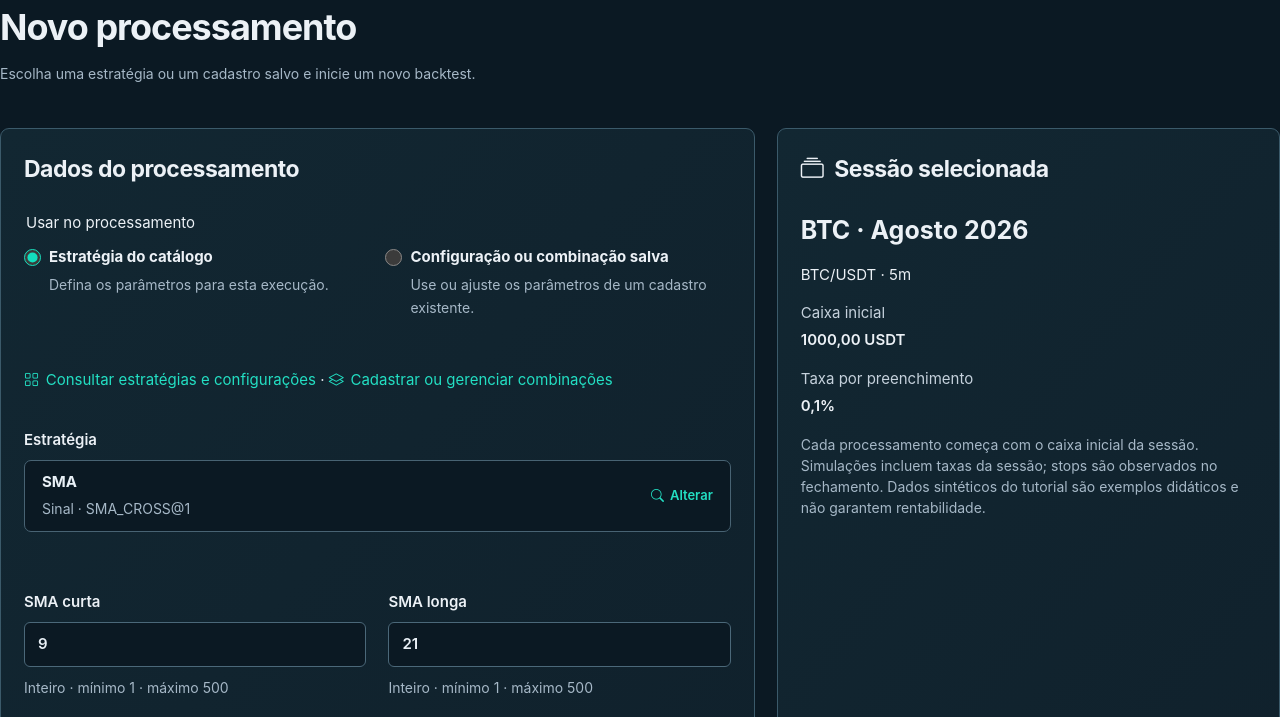
it: não inventa categoria quando o catálogo não a informa e mostra os papéis da receita
Click the button with aria-label "Selecionar estratégia".
click(60, 482)  # box x1=24 y1=460 x2=731 y2=532
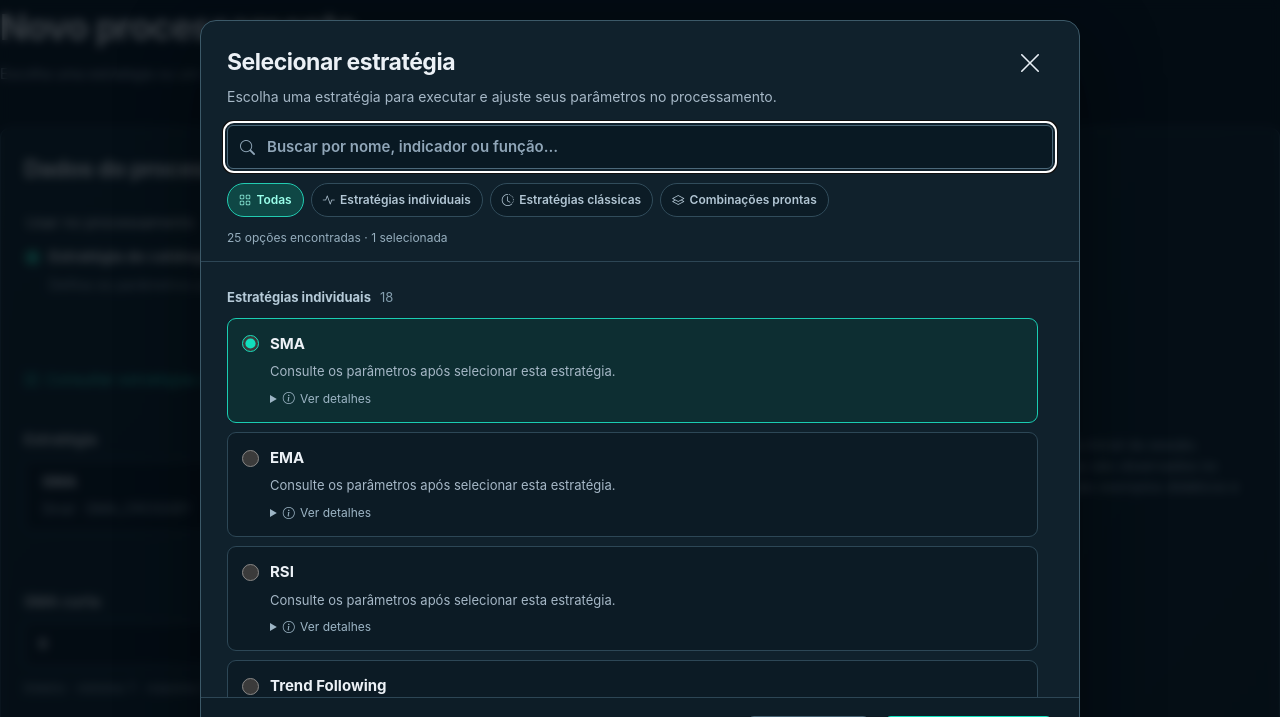
Type "EMA_ADX_ATR@1" into the search field.
click(640, 147); type("EMA_ADX_ATR@1")  # box x1=227 y1=124 x2=1053 y2=169
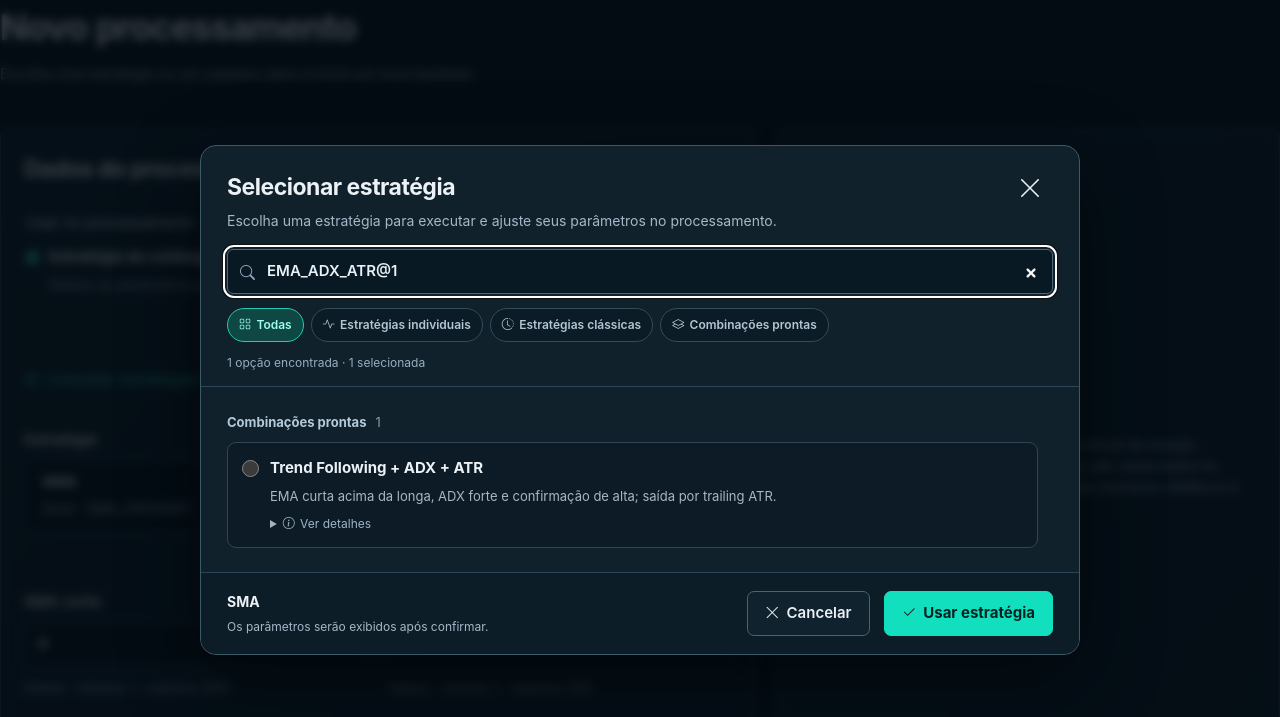
Click the radio button.
click(250, 469)  # box x1=242 y1=460 x2=259 y2=477
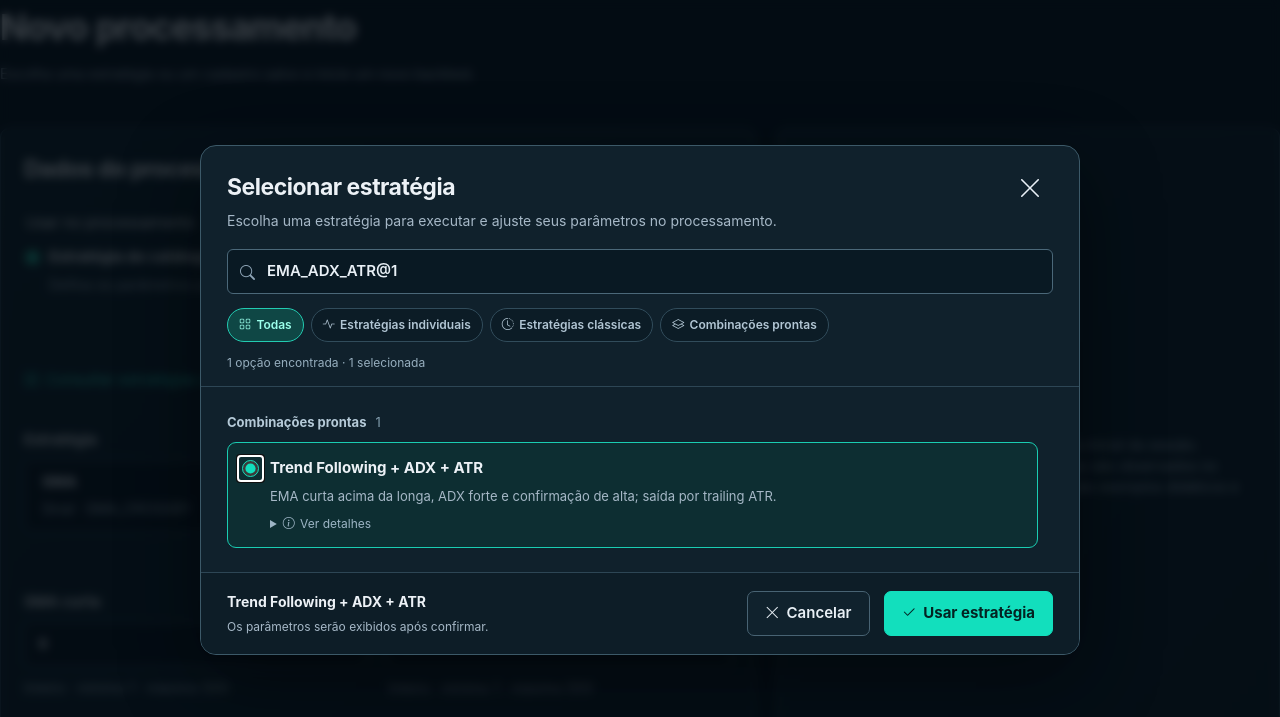
Click the button "Usar estratégia".
click(968, 613)  # box x1=884 y1=591 x2=1053 y2=636
(page scrolled)
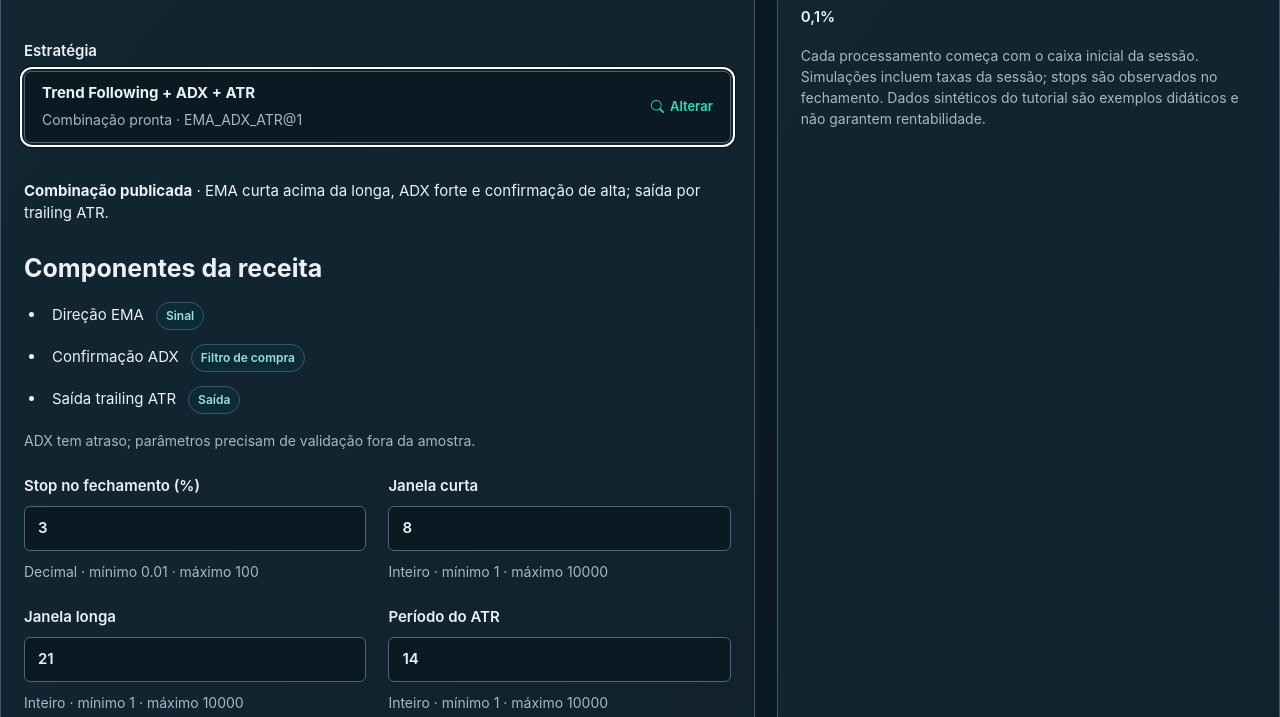
Result: the heading "Componentes da receita" is shown at x1=24 y1=253 x2=322 y2=283
Result: the text "Direção EMA" is shown at x1=52 y1=305 x2=144 y2=324
Result: the text "Confirmação ADX" is shown at x1=52 y1=347 x2=179 y2=366
